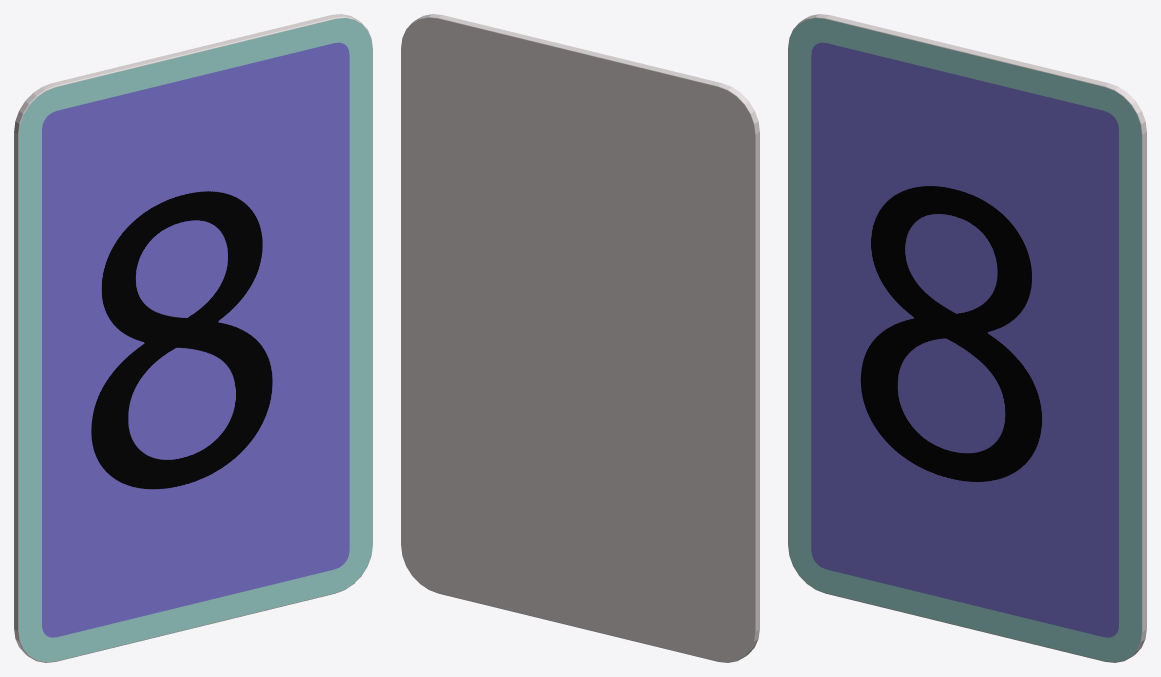
Rendered from Clubs_8.fbx.
3 views of the same model, side by side, from view 1: azimuth 30°, elevation 25°; view 2: azimuth 150°, elevation 25°; view 3: azimuth 330°, elevation 25° (orthographic).
Visible parts, largest first — view 1: bleu8; view 2: bleu8; view 3: bleu8.
Part boxes in pixels (x1=…): bleu8: x1=14, y1=14, x2=372, y2=662; bleu8: x1=401, y1=14, x2=759, y2=662; bleu8: x1=788, y1=14, x2=1146, y2=662.
Size of the model in its own units: 200 by 310 by 4.34.
Materials: 3 (1 with a texture image).
